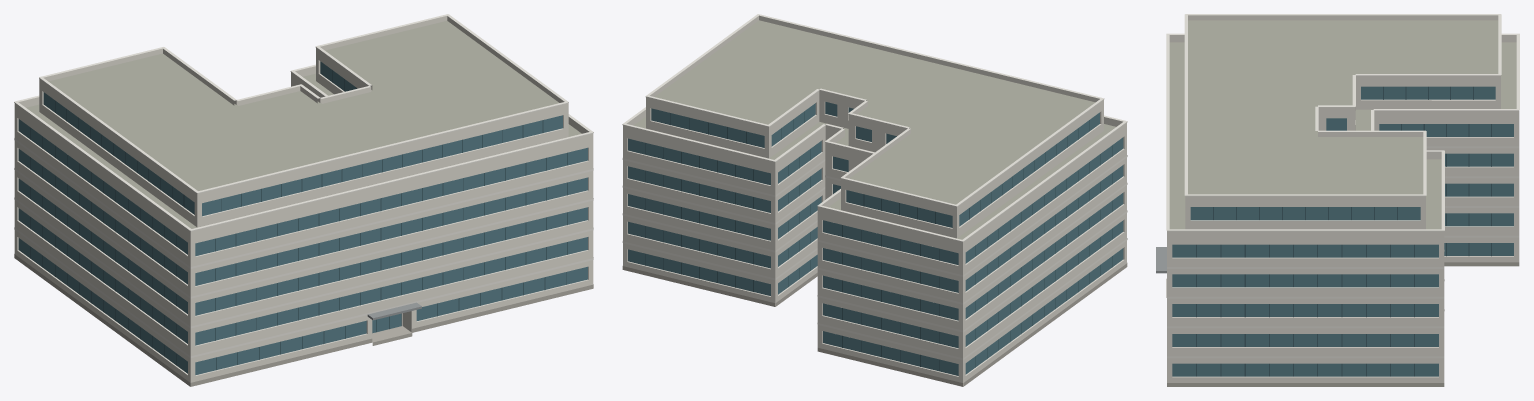
3 renders of one model, left to right at view 1: azimuth 30°, elevation 25°; view 2: azimuth 150°, elevation 25°; view 3: azimuth 270°, elevation 25°, orthographic. The views are drawn at different scales.
Parts seen in each view (by area): view 1: artA__wall, artA__glass, artA__roof, artA__trim, artA__parapet, artA__base, artA__frame; view 2: artA__wall, artA__glass, artA__roof, artA__trim, artA__parapet, artA__base, artA__frame; view 3: artA__roof, artA__wall, artA__glass, artA__trim, artA__parapet, artA__base, artA__frame.
Boxes of the visible parts, x1,y1,x2,y2 form: artA__wall: [14, 51, 593, 386]; artA__glass: [18, 61, 587, 375]; artA__roof: [26, 21, 581, 228]; artA__trim: [14, 14, 593, 357]; artA__parapet: [14, 16, 593, 237]; artA__base: [14, 254, 593, 386]; artA__frame: [30, 70, 567, 370]; artA__wall: [623, 94, 1126, 386]; artA__glass: [628, 102, 1123, 375]; artA__roof: [634, 20, 1115, 239]; artA__trim: [622, 14, 1127, 359]; artA__parapet: [623, 15, 1126, 247]; artA__base: [622, 263, 1127, 386]; artA__frame: [645, 111, 1112, 371]; artA__roof: [1169, 20, 1516, 229]; artA__wall: [1167, 80, 1519, 382]; artA__glass: [1172, 86, 1513, 376]; artA__trim: [1166, 14, 1519, 358]; artA__parapet: [1167, 15, 1519, 237]; artA__base: [1166, 262, 1519, 386]; artA__frame: [1196, 86, 1491, 376].
Bounding box in the file's own units: 51.13 × 22.6 × 39.88.
